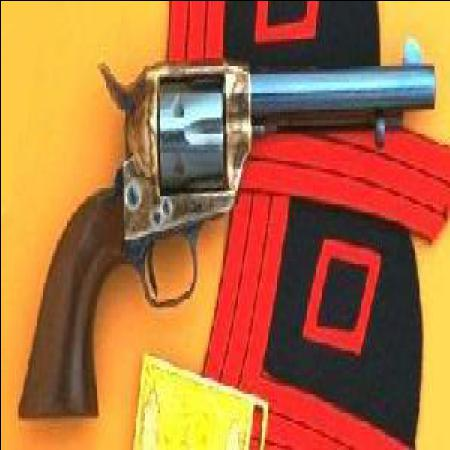Pistol: (15, 35, 435, 418)
